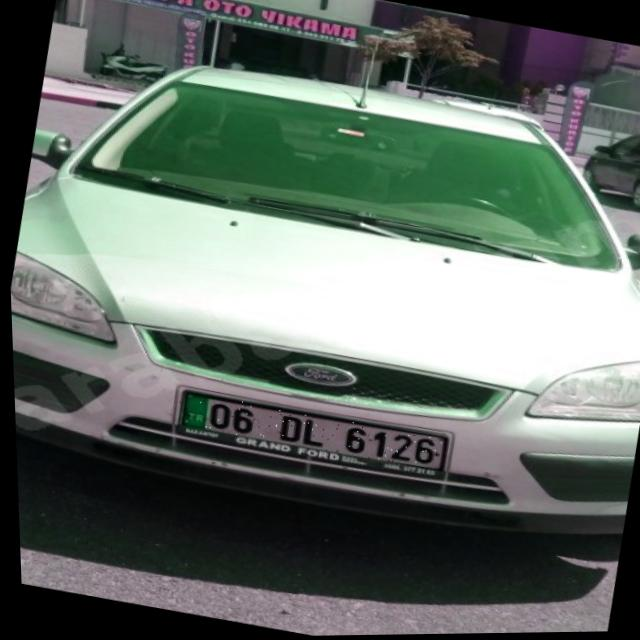license_plate: (177, 389, 445, 476)
